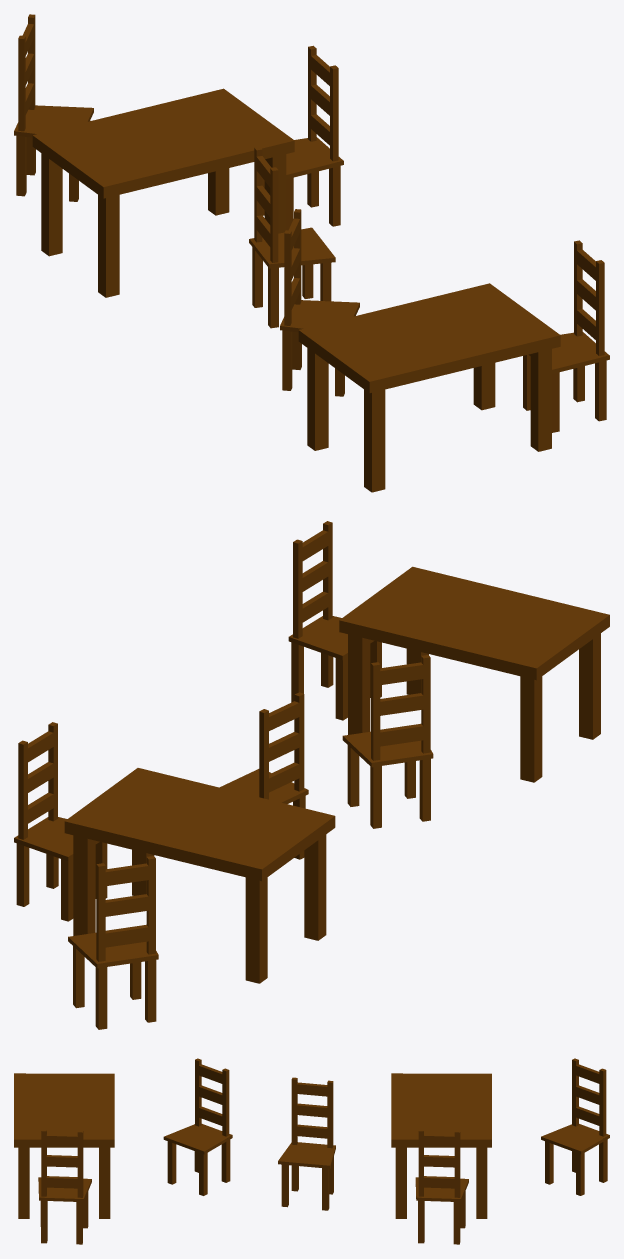
File: tischeStuehle.dae
The picture shows the model from 3 angles, top to bottom: view 1: azimuth 30°, elevation 25°; view 2: azimuth 150°, elevation 25°; view 3: azimuth 270°, elevation 25°; orthographic projection. The views are drawn at different scales.
Parts seen in each view (by area): view 1: tisch, tisch.1, stuhl, stuhl.4, stuhl.2, stuhl.3, stuhl.1; view 2: tisch.1, tisch, stuhl.3, stuhl.1, stuhl.2, stuhl, stuhl.4; view 3: tisch.1, tisch, stuhl.1, stuhl.4, stuhl.3, stuhl, stuhl.2.
Boxes of the visible parts, x1,y1,x2,y2 form: tisch: [298, 283, 560, 492]; tisch.1: [32, 88, 294, 297]; stuhl: [523, 240, 609, 432]; stuhl.4: [249, 146, 335, 328]; stuhl.2: [262, 45, 343, 230]; stuhl.3: [14, 14, 93, 201]; stuhl.1: [280, 209, 359, 396]; tisch.1: [64, 768, 335, 983]; tisch: [339, 566, 609, 782]; stuhl.3: [68, 856, 158, 1029]; stuhl.1: [342, 655, 433, 828]; stuhl.2: [14, 722, 107, 921]; stuhl: [288, 521, 381, 720]; stuhl.4: [219, 692, 308, 859]; tisch.1: [391, 1073, 491, 1218]; tisch: [14, 1073, 114, 1218]; stuhl.1: [163, 1058, 232, 1195]; stuhl.4: [278, 1077, 335, 1210]; stuhl.3: [541, 1058, 609, 1195]; stuhl: [38, 1129, 91, 1244]; stuhl.2: [415, 1129, 468, 1244].
Size of the model in its own units: 131 by 75.02 by 363.
